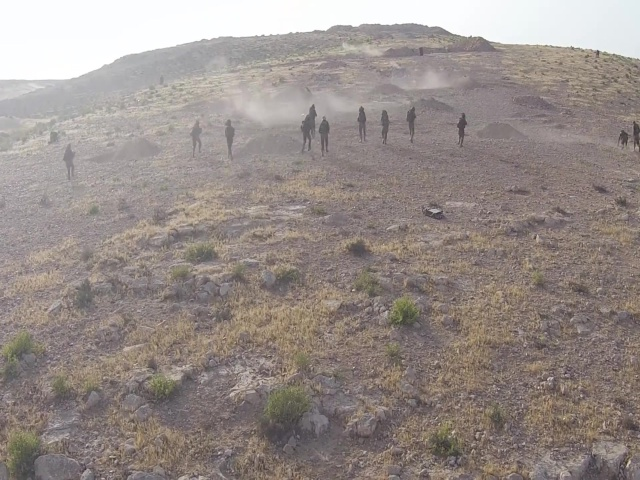person: (190, 120, 204, 158), (63, 143, 77, 181), (405, 104, 418, 144), (298, 115, 311, 154), (377, 108, 391, 144), (317, 115, 330, 152), (223, 117, 234, 160), (456, 110, 468, 147), (616, 130, 634, 151), (357, 103, 366, 144)
